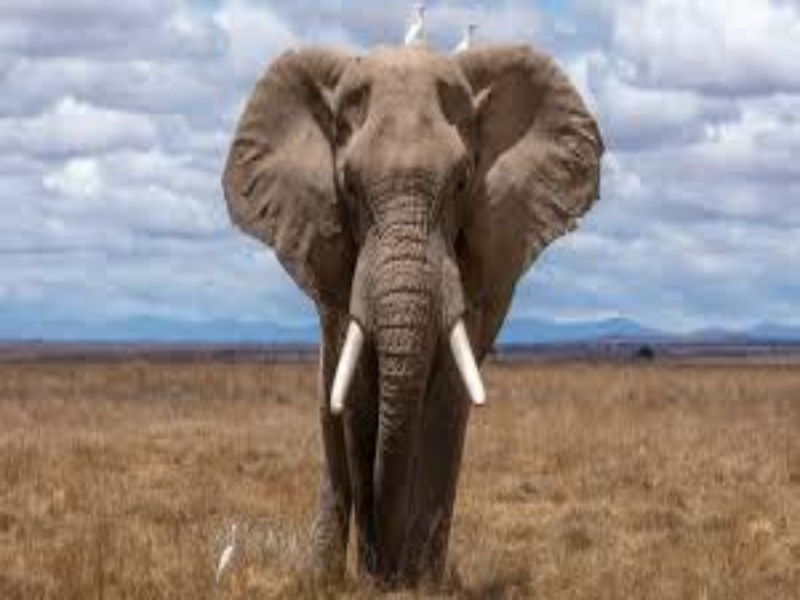elephant: (197, 22, 608, 582)
